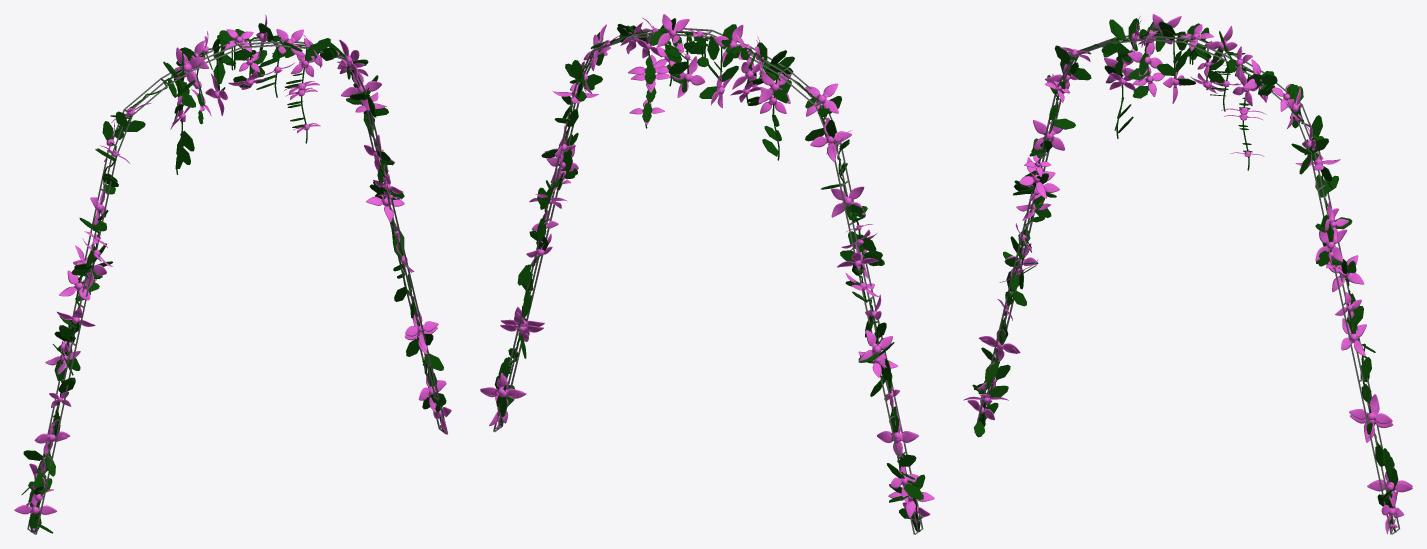
The model's file is FlowerGate.fbx.
3 views of the same model, side by side, from view 1: azimuth 30°, elevation 25°; view 2: azimuth 150°, elevation 25°; view 3: azimuth 330°, elevation 25° (orthographic). The views are drawn at different scales.
Parts seen in each view (by area): view 1: Support, Leaves; view 2: Support, Leaves, Leaves|Flower|Dupli|120, Leaves|Flower|Dupli|55, Leaves|Flower|Dupli|115; view 3: Support, Leaves, Leaves|Flower|Dupli|10.
Boxes of the visible parts, bbox=[...] form: Support: bbox=[27, 39, 447, 534]; Leaves: bbox=[30, 36, 442, 532]; Support: bbox=[493, 28, 923, 534]; Leaves: bbox=[499, 29, 920, 531]; Leaves|Flower|Dupli|120: bbox=[805, 83, 838, 116]; Leaves|Flower|Dupli|55: bbox=[657, 14, 689, 51]; Leaves|Flower|Dupli|115: bbox=[810, 117, 851, 161]; Support: bbox=[974, 33, 1399, 534]; Leaves: bbox=[980, 32, 1396, 532]; Leaves|Flower|Dupli|10: bbox=[1349, 394, 1392, 438].
Bounding box in the file's own units: 212 × 211 × 25.53.
